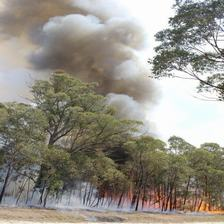fire: (82, 163, 220, 215)
